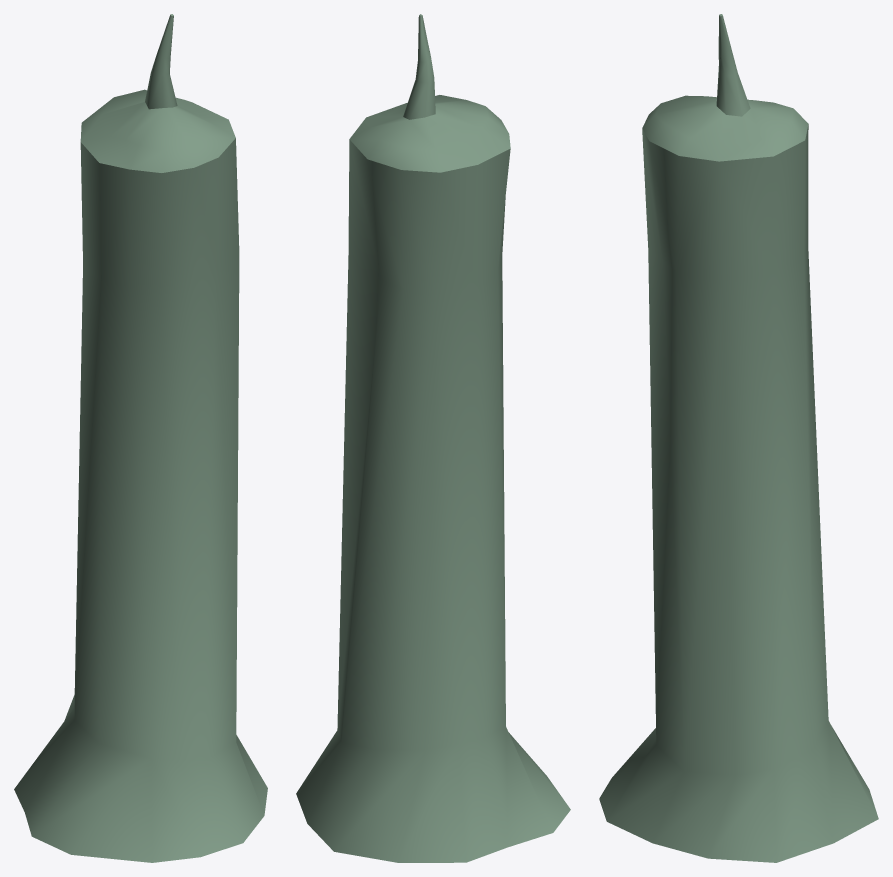
File: SM_Pirate_Candle_1.fbx
3 views of the same model, side by side, from view 1: azimuth 30°, elevation 25°; view 2: azimuth 150°, elevation 25°; view 3: azimuth 270°, elevation 25° (orthographic). The views are drawn at different scales.
Parts seen in each view (by area): view 1: SM_Pirate_Candle_1; view 2: SM_Pirate_Candle_1; view 3: SM_Pirate_Candle_1.
Part boxes in pixels (x1,y1,x2,y2): SM_Pirate_Candle_1: [14, 14, 267, 862]; SM_Pirate_Candle_1: [296, 14, 570, 862]; SM_Pirate_Candle_1: [599, 14, 878, 862].
Size of the model in its own units: 5.43 by 17.42 by 5.52.
